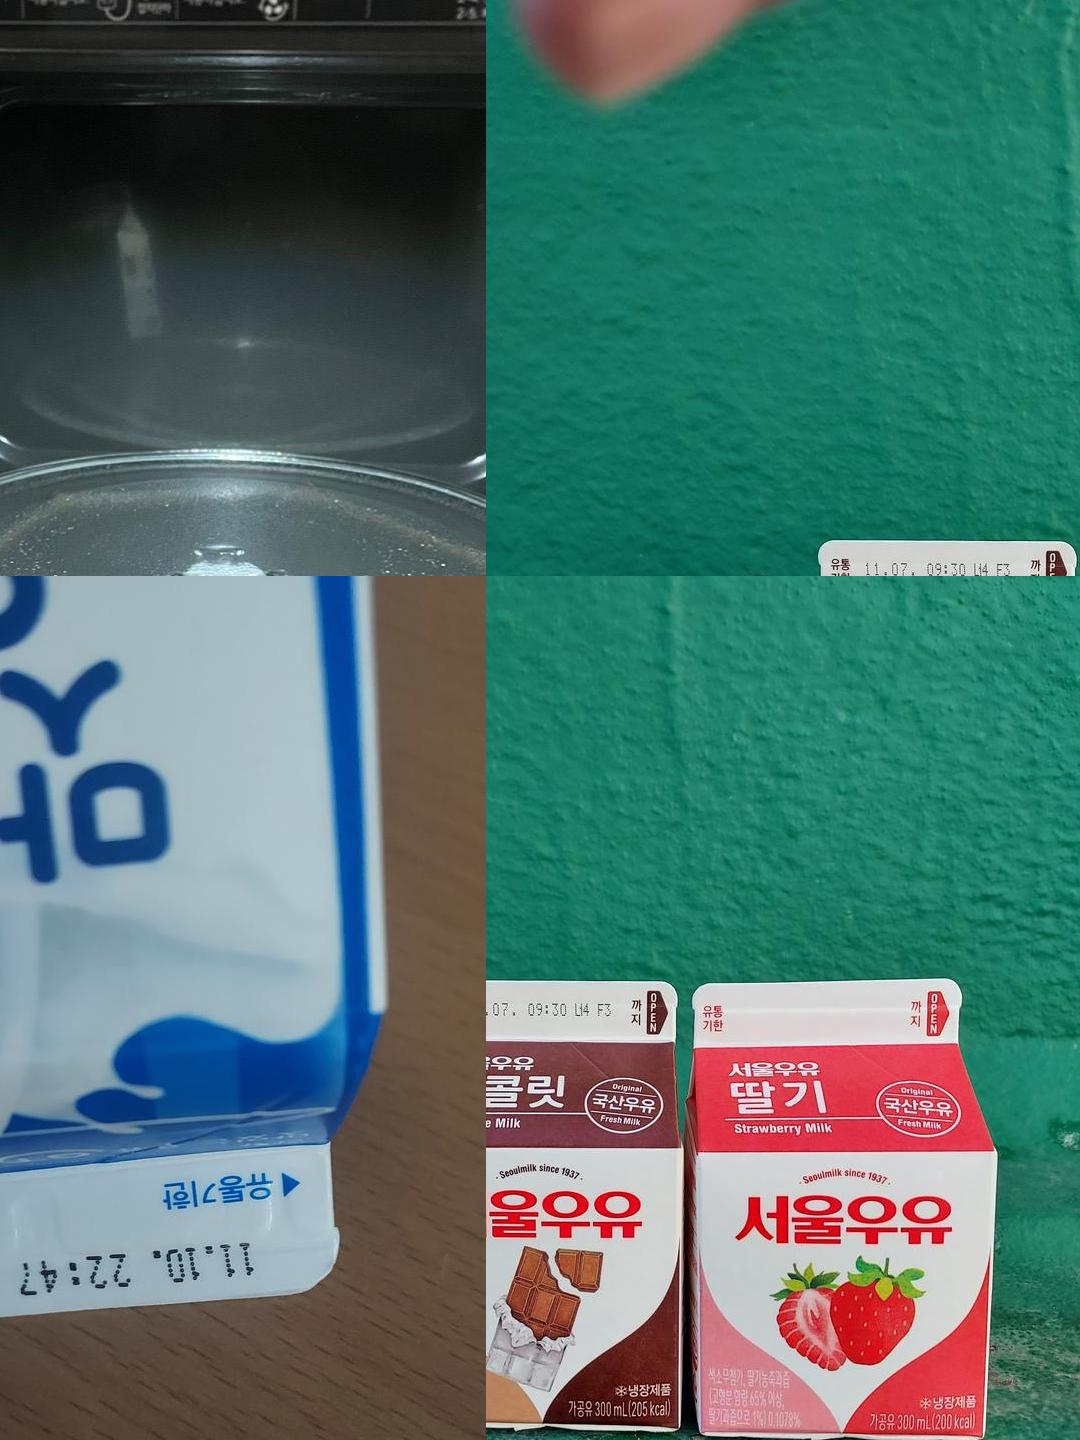milk: (0, 1140, 341, 1325), (486, 975, 676, 1042), (0, 298, 136, 388), (815, 535, 1075, 576), (486, 1017, 594, 1086)
